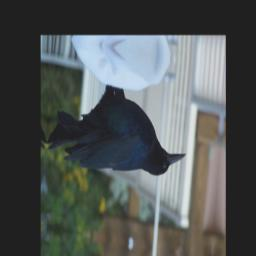Crow: (47, 75, 190, 189)
